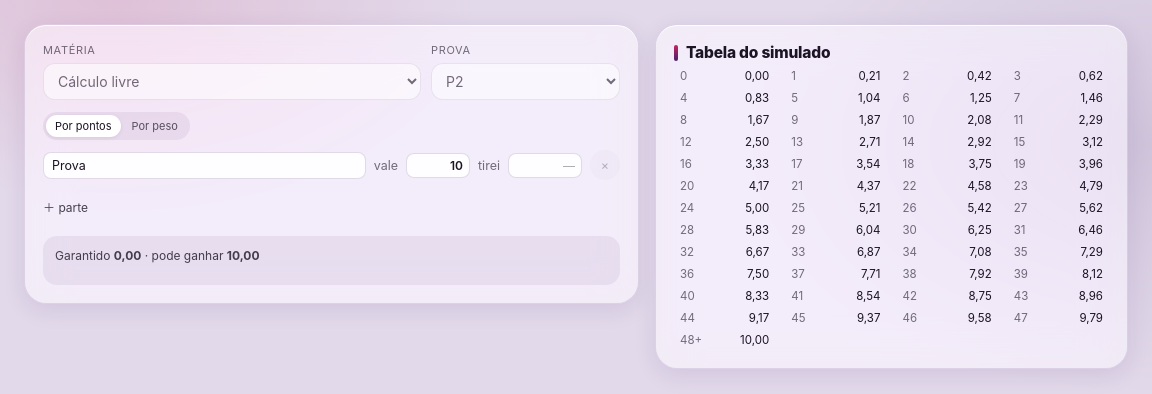
Scenario: Calculadora page › livre: default Prova part, edits are stored under livre and never touch grades
Expected: the field named "Nome da parte 1" holds "Prova", [43,152,366,178]
Type "7,5" into the field named "Tirei na parte 1" at (545, 165), box [508,152,582,178]
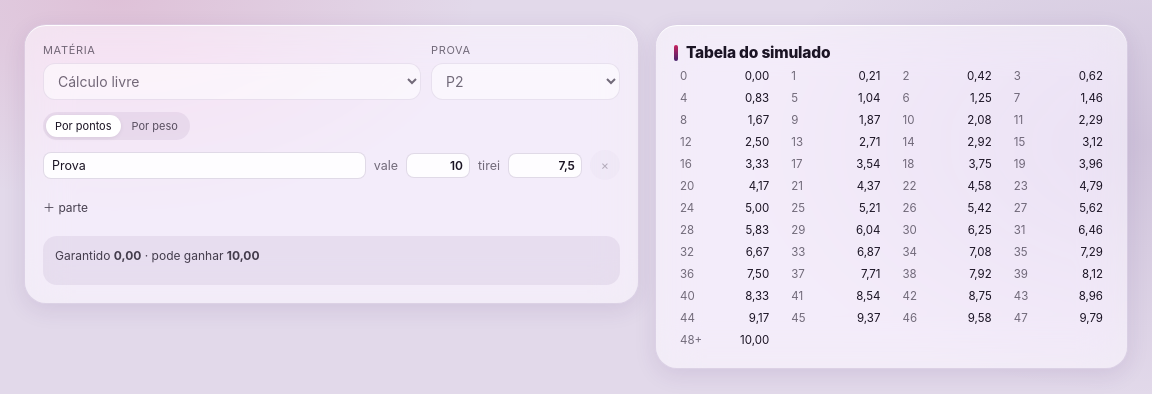
Leave the field named "Tirei na parte 1", box [508,152,582,178]
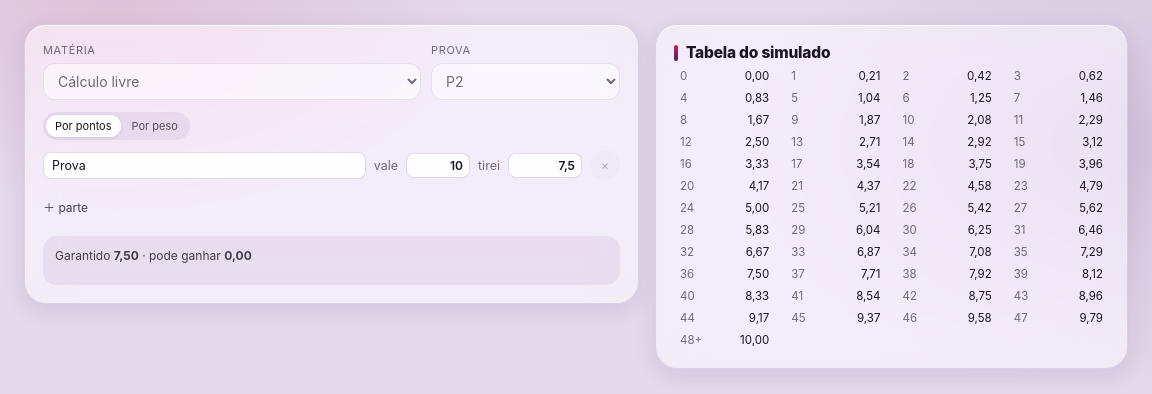
Expected: the element with class "result" shows "Garantido 7,50", [43,236,620,285]
